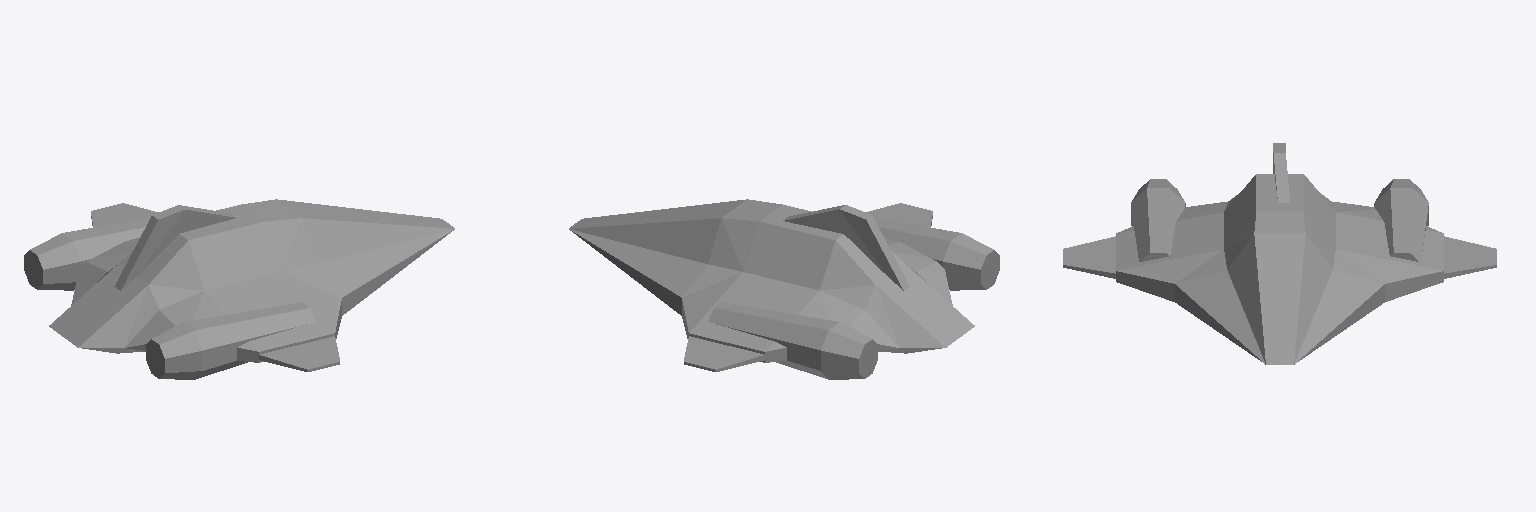
The model's file is Insurrector.obj.
3 renders of one model, left to right at view 1: azimuth 30°, elevation 25°; view 2: azimuth 150°, elevation 25°; view 3: azimuth 270°, elevation 25°, orthographic.
Parts seen in each view (by area): view 1: Hull_Cube, Engine2_Cylinder.005, Engine1_Cylinder.007, Stabilizer_Cube.007; view 2: Hull_Cube, Engine1_Cylinder.007, Engine2_Cylinder.005, Stabilizer_Cube.007; view 3: Hull_Cube, Engine1_Cylinder.007, Engine2_Cylinder.005, Stabilizer_Cube.007.
Boxes of the visible parts, box(x1,y1,x2,y2) form: Hull_Cube: box(49, 199, 454, 371); Engine2_Cylinder.005: box(146, 302, 315, 379); Engine1_Cylinder.007: box(24, 218, 149, 290); Stabilizer_Cube.007: box(114, 205, 236, 290); Hull_Cube: box(569, 199, 974, 371); Engine1_Cylinder.007: box(708, 302, 877, 379); Engine2_Cylinder.005: box(874, 218, 999, 290); Stabilizer_Cube.007: box(783, 205, 909, 290); Hull_Cube: box(1063, 174, 1496, 364); Engine1_Cylinder.007: box(1374, 179, 1428, 261); Engine2_Cylinder.005: box(1131, 179, 1185, 261); Stabilizer_Cube.007: box(1273, 143, 1289, 202).
Bounding box in the file's own units: 1.37 × 0.4567 × 1.34.